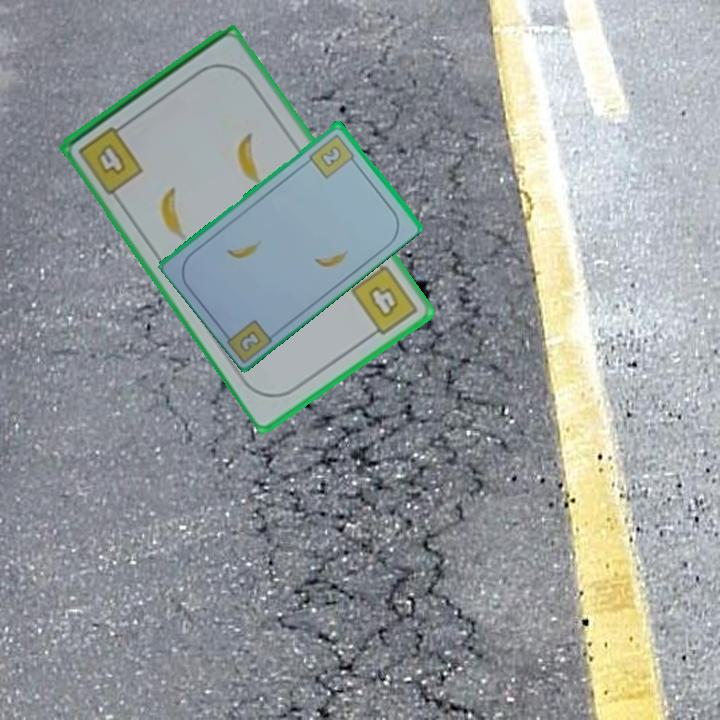2b: (306, 130, 360, 181), (236, 326, 264, 355)
4b: (347, 261, 422, 342), (75, 118, 147, 198)
